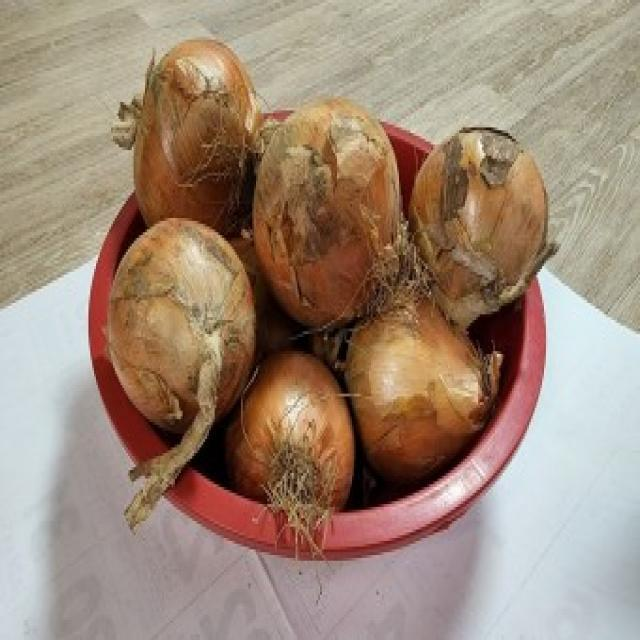Onion: (109, 204, 257, 456), (262, 87, 412, 320), (342, 277, 499, 478), (414, 107, 554, 316), (120, 36, 256, 232), (226, 333, 349, 516)
